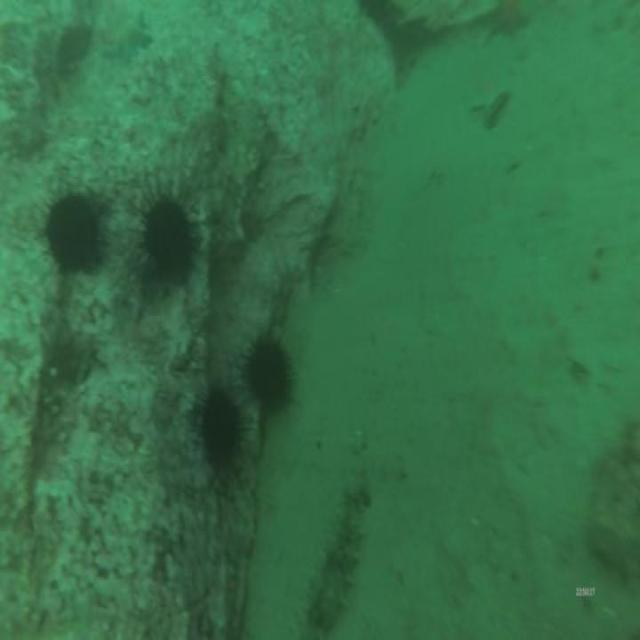echinus: (34, 177, 108, 283), (133, 184, 199, 292), (238, 327, 300, 419), (195, 382, 249, 483)
holothurian: (282, 475, 372, 640), (583, 408, 640, 599)
starfish: (466, 66, 517, 128), (478, 0, 532, 43)
